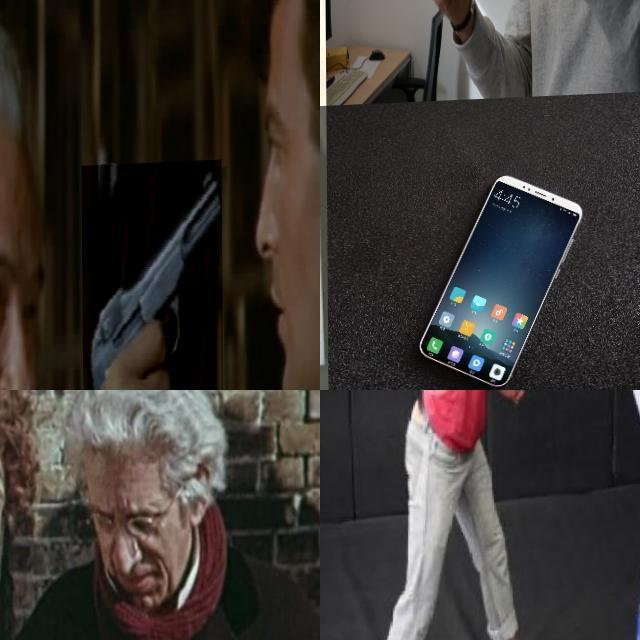-: (460, 390, 549, 443)
gun-knife-thesis - v11 Yolov5 augmented: (81, 163, 223, 390)
